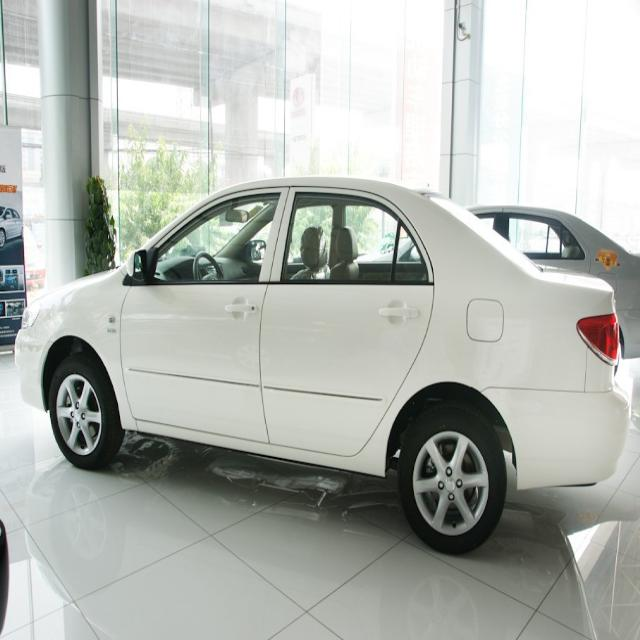back_glass: (422, 191, 542, 275)
back_left_side_light: (576, 309, 622, 368)
door: (260, 192, 437, 452)
front_left_side_door: (119, 183, 291, 446)
front_left_side_light: (20, 298, 42, 332)
front_left_side_mirror: (125, 248, 146, 284)
rear_bumper: (474, 381, 630, 494)
wheel: (398, 402, 506, 551), (47, 354, 122, 467)
